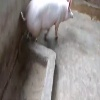heo: (18, 1, 82, 42)
